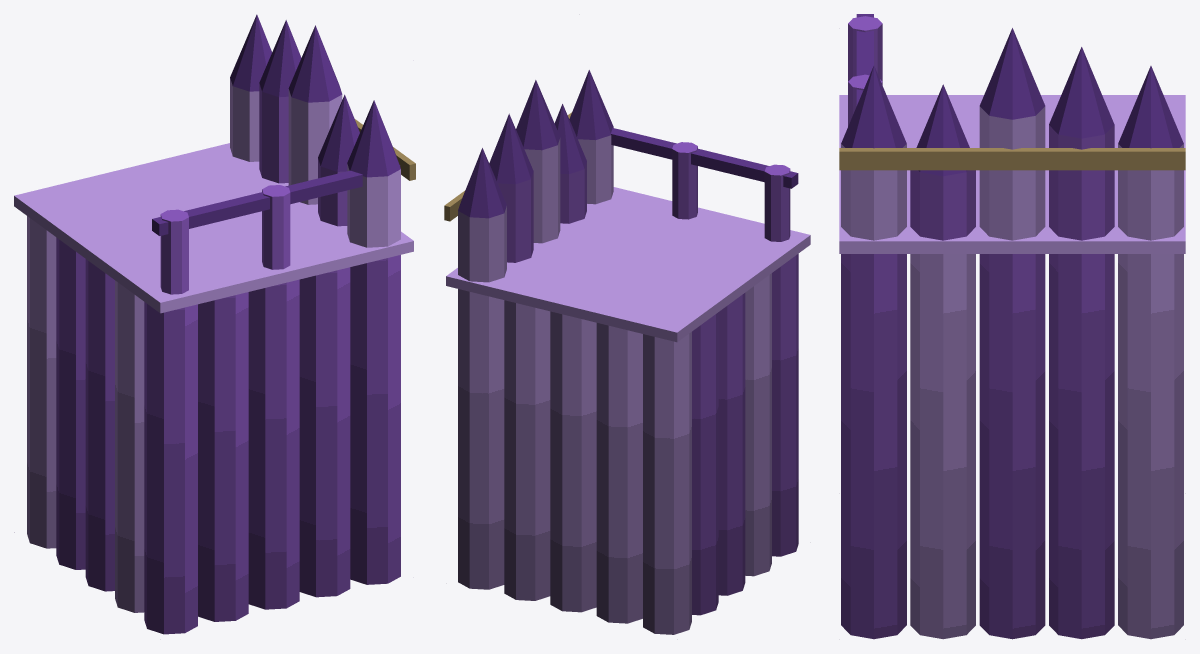
The model's file is perimeter_wall_crystal_f9.glb.
3 views of the same model, side by side, from view 1: azimuth 30°, elevation 25°; view 2: azimuth 150°, elevation 25°; view 3: azimuth 270°, elevation 25° (orthographic). The views are drawn at different scales.
Bounding box in the file's own units: 2.01 × 3.9 × 2.
1 material, 1 textured.
